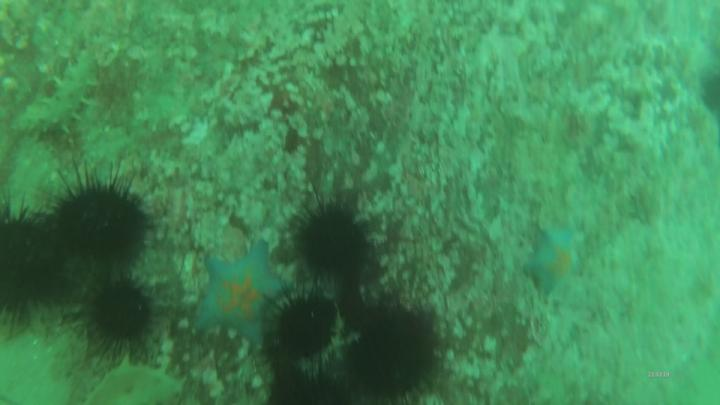echinus: (36, 162, 159, 273), (1, 194, 70, 334), (283, 192, 376, 288), (351, 301, 444, 396), (78, 271, 162, 361), (276, 295, 341, 360), (266, 365, 346, 405)
holothurian: (32, 49, 104, 139)
starfish: (188, 237, 289, 350), (526, 220, 585, 301)
